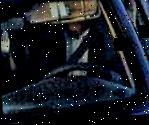seatbelt: (68, 23, 108, 62)
